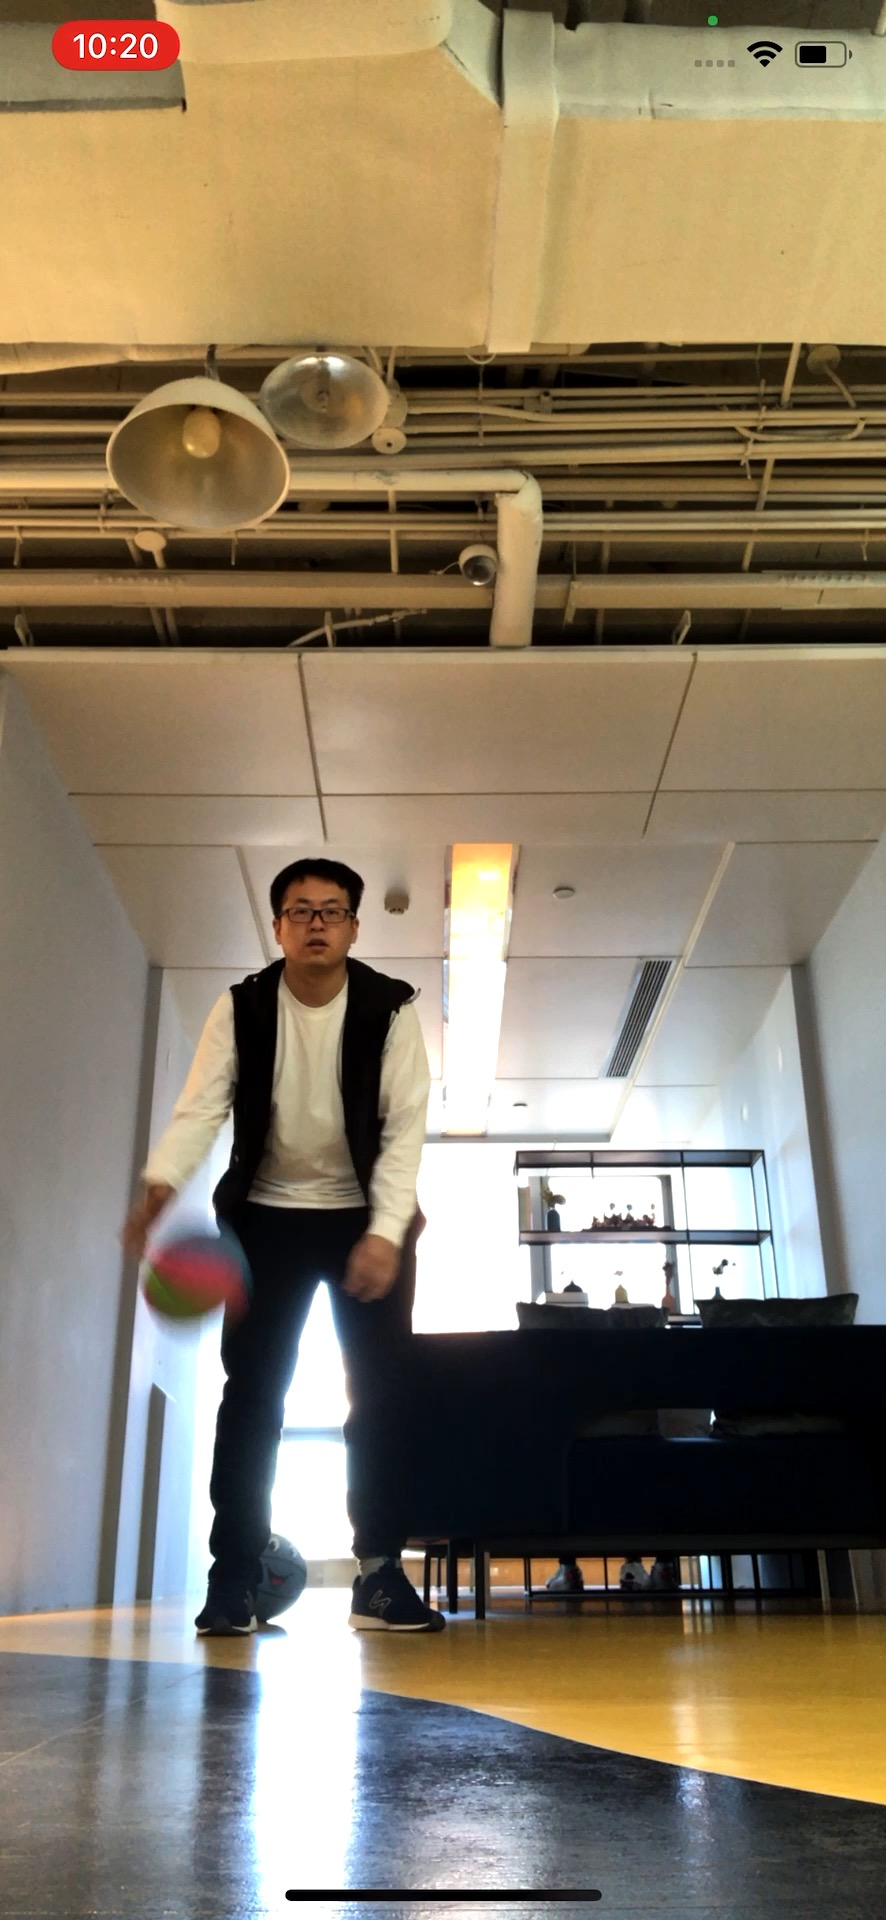ball: (143, 1227, 257, 1325)
